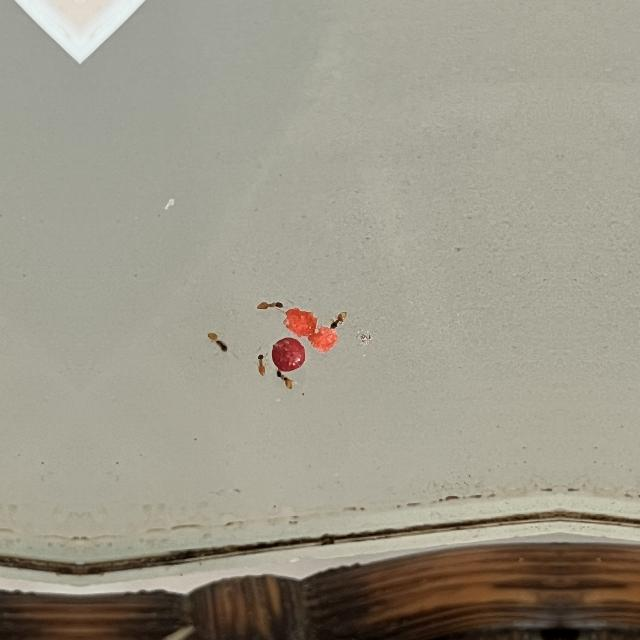Tapinoma: (206, 329, 228, 353), (255, 296, 285, 312), (252, 347, 268, 377), (274, 369, 294, 389), (329, 310, 347, 330)
